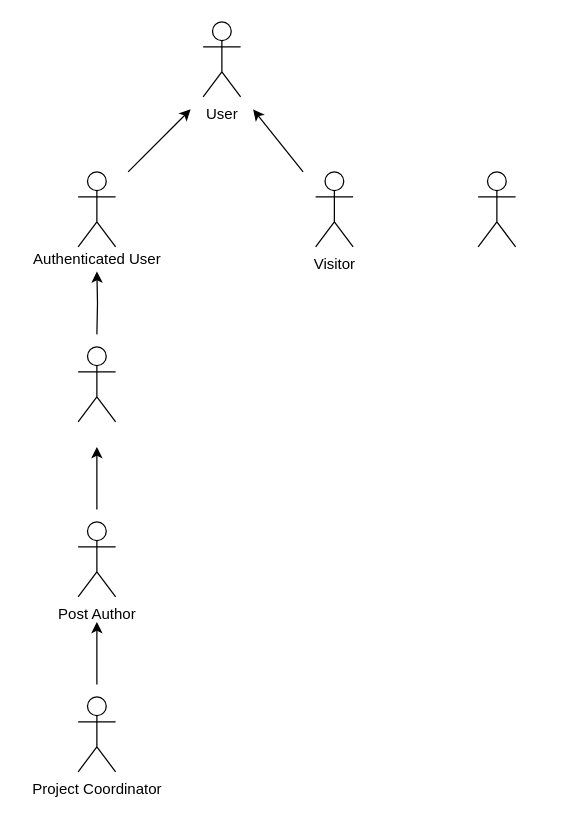
The diagram is 563 pixels wide and 820 high, and some of its shapes have lost their labels. Each missing label, with the centre of its shape:
Administrator: pixel 496 209
Project Member: pixel 96 384
